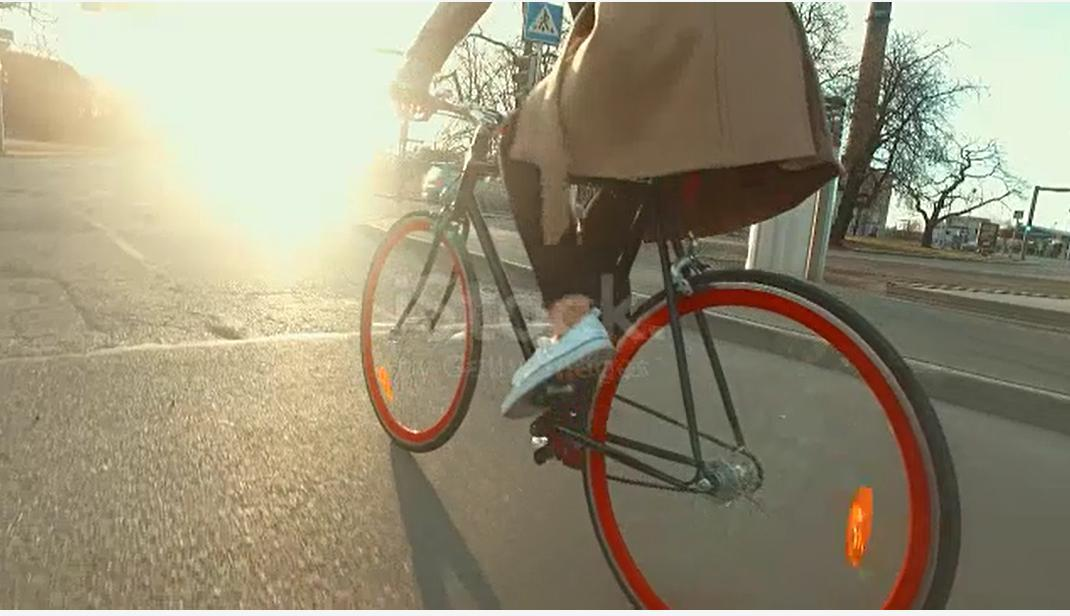bicycle: (341, 39, 1003, 616)
